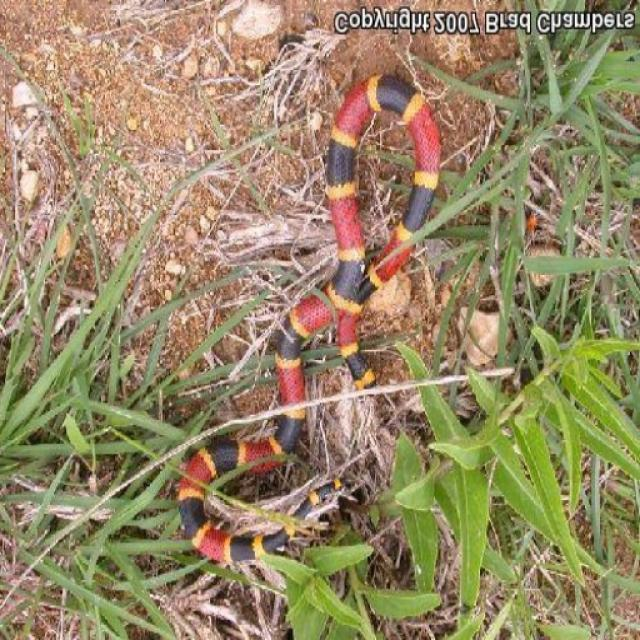snake: (154, 68, 526, 578)
